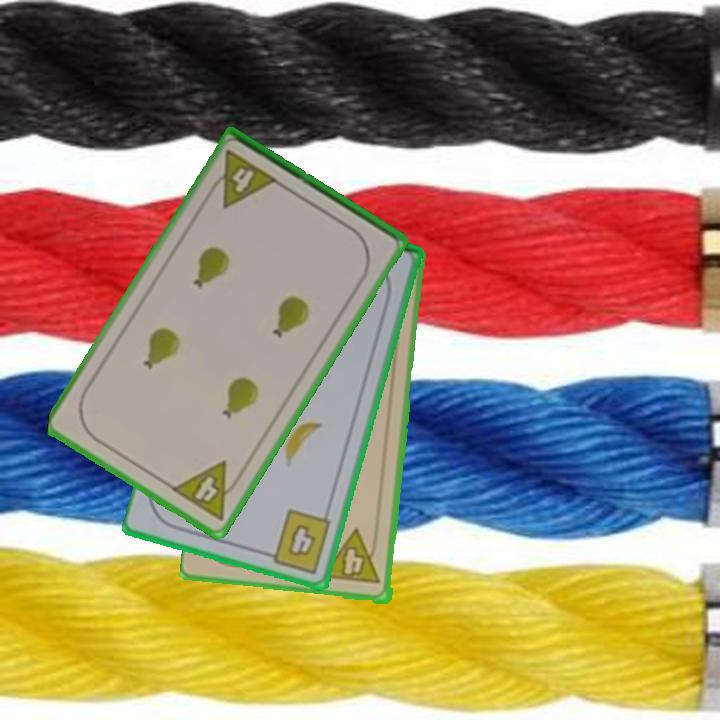4b: (260, 505, 334, 577)
4p: (168, 457, 247, 524), (204, 146, 281, 211), (320, 528, 384, 587)
